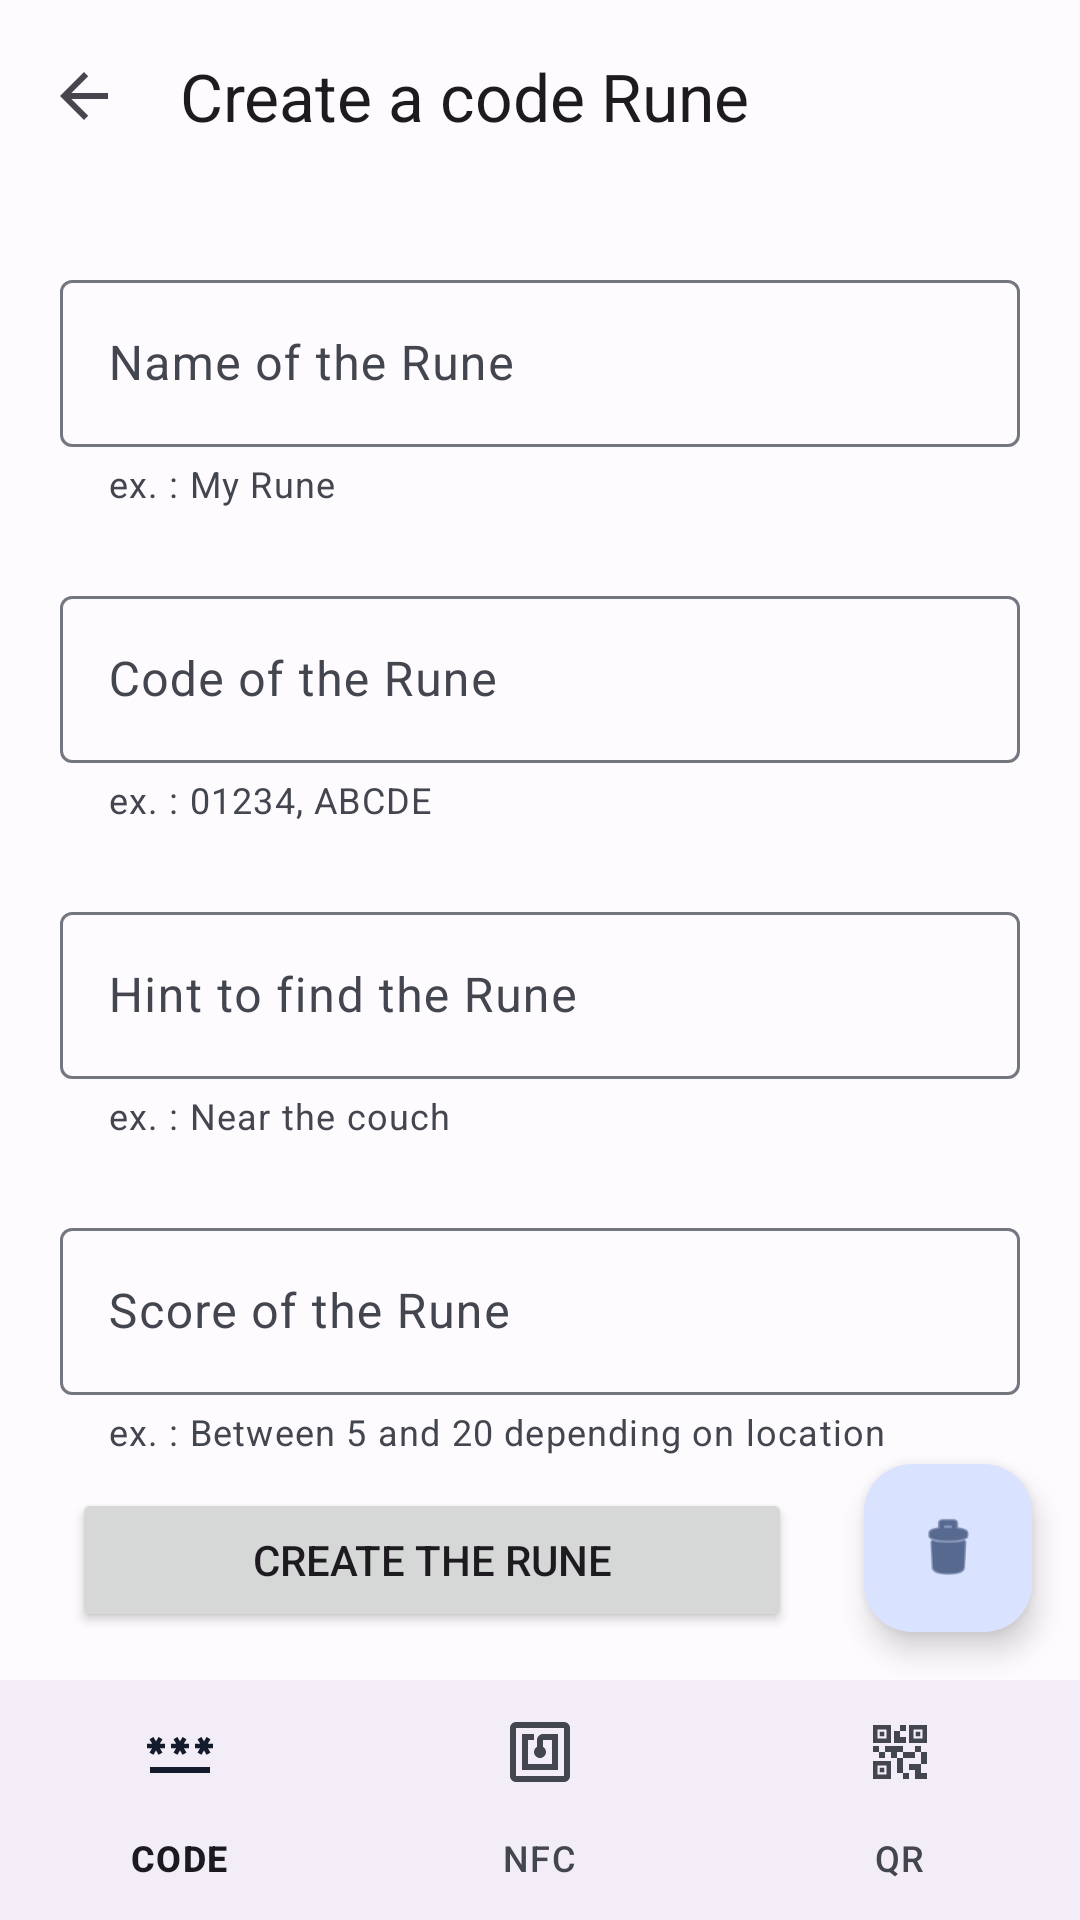

Where icons sit on this 1080 x 1920 app screen, as (x1, y1, x2, y2):
Delete rune: (864, 1464, 1032, 1632)
